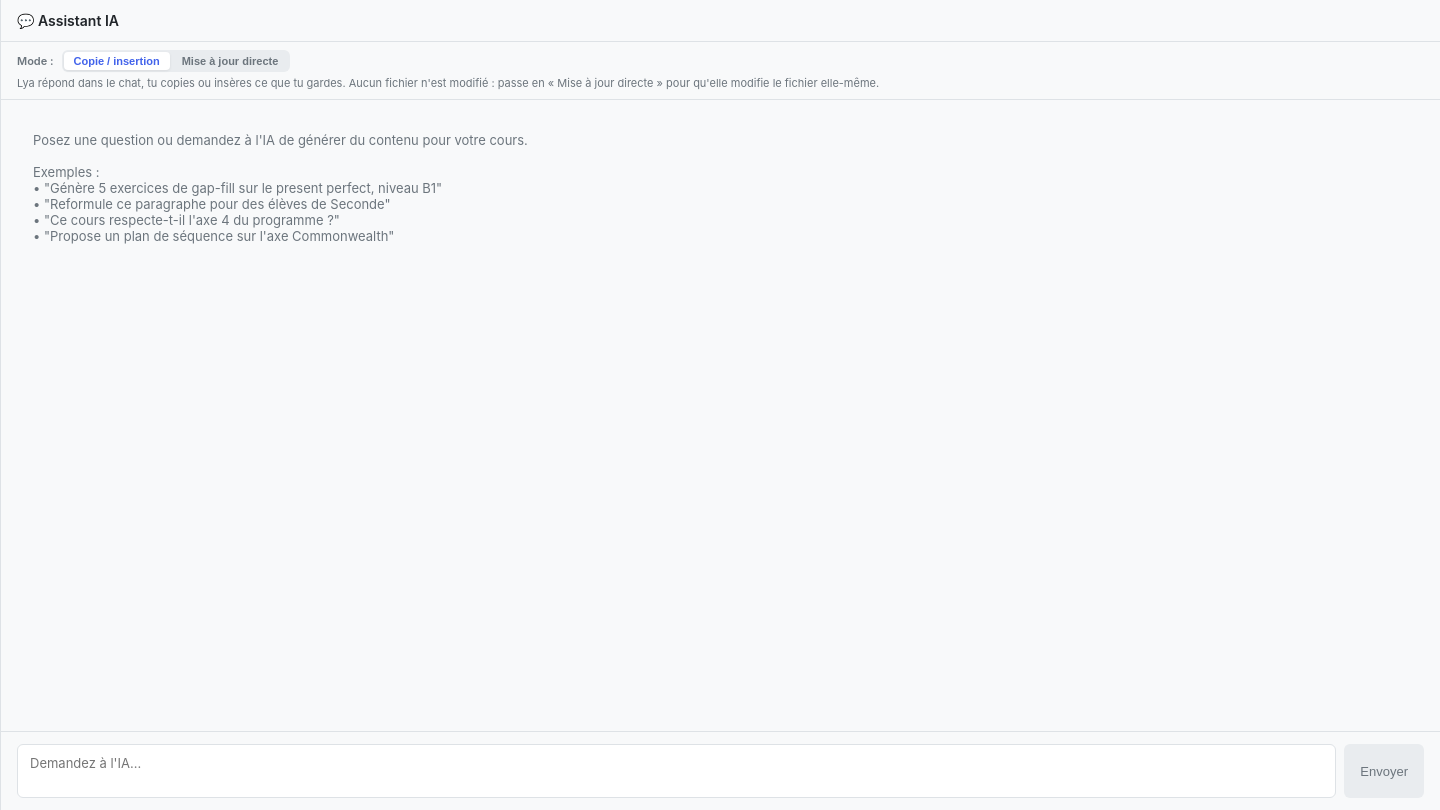
Scenario: Chat › displays user message after sending
Type "Generate exercises" into the text box with placeholder "Demandez à l'IA...". click: (677, 771)
box: [17,744,1336,798]
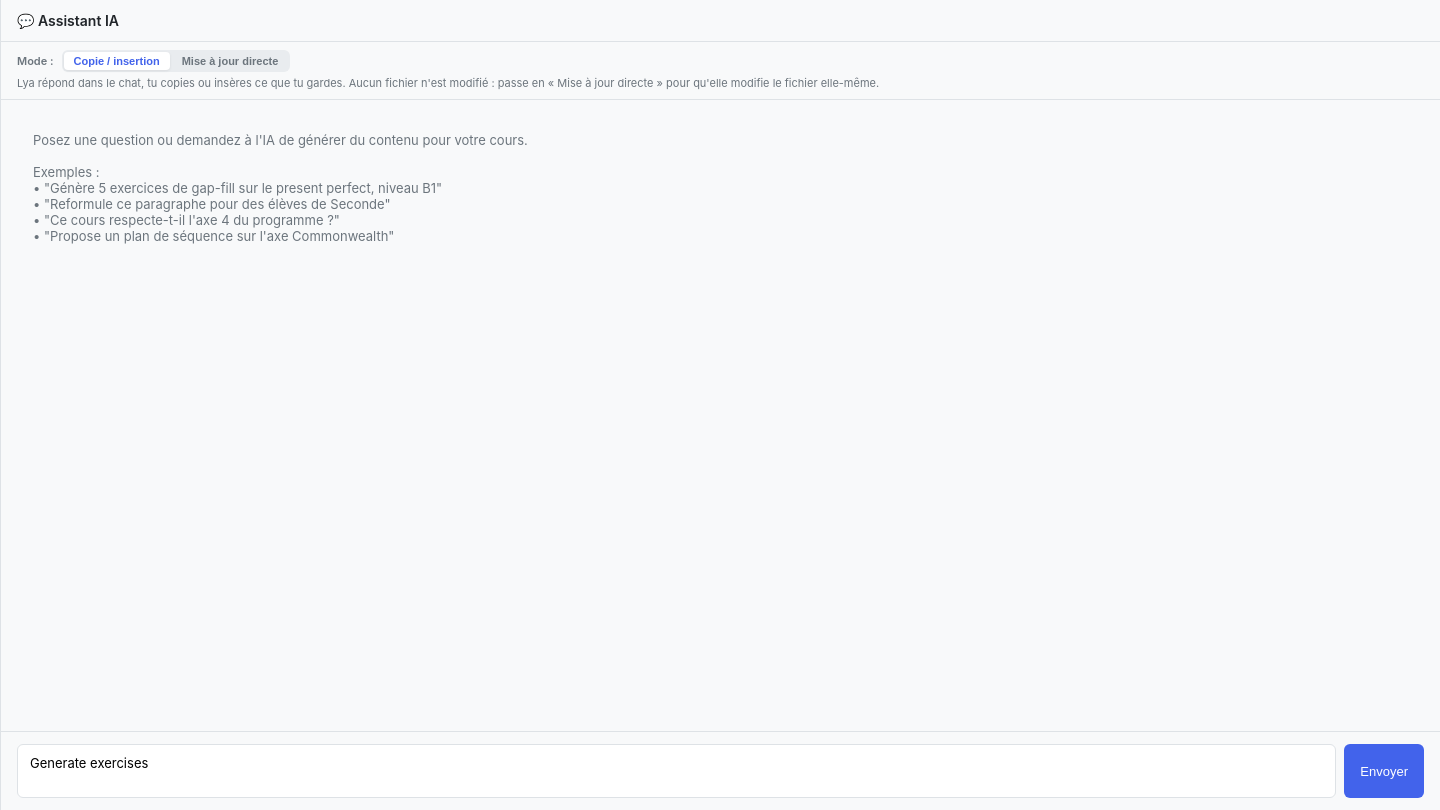
Click the button "Envoyer". click: (1384, 771)
box: [1344,744,1424,798]
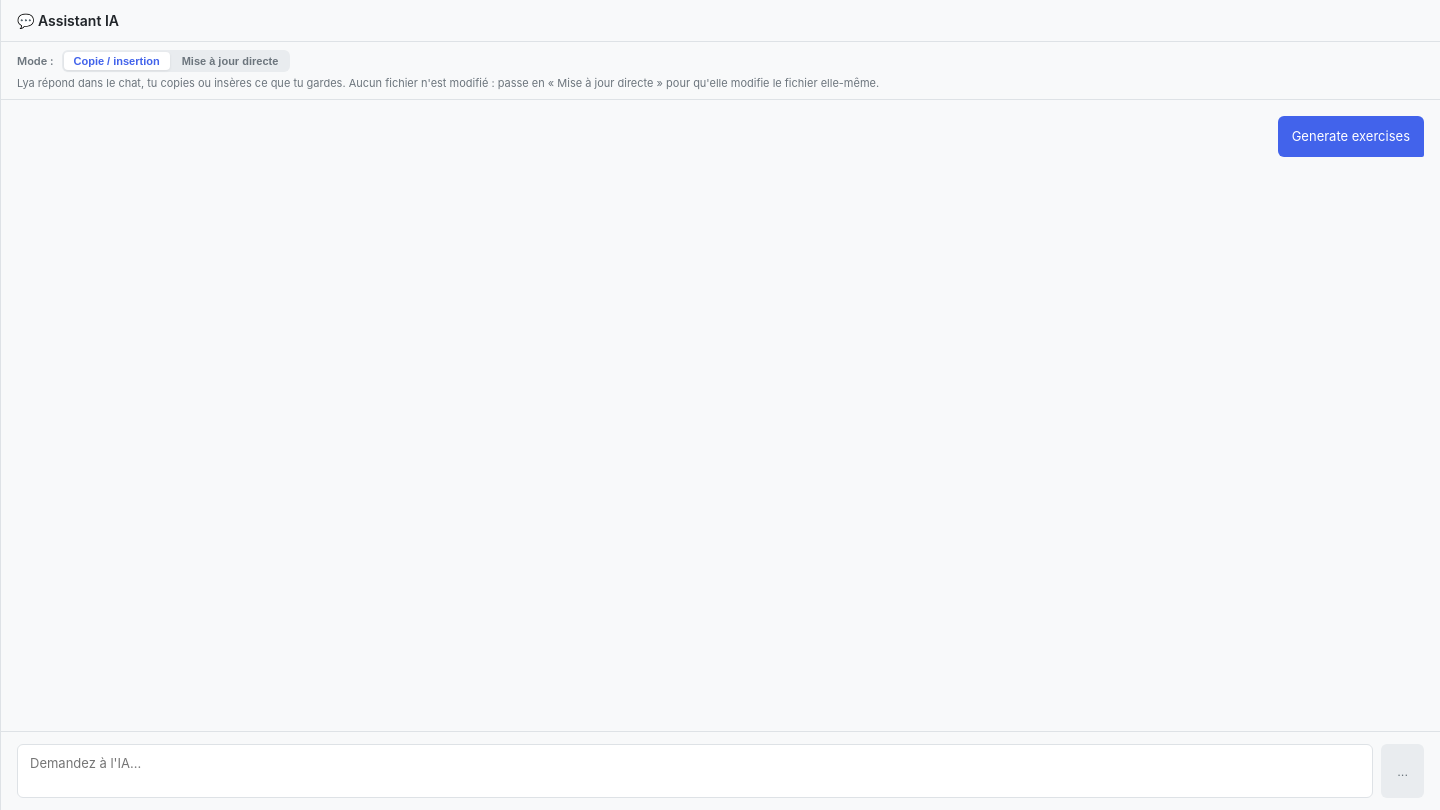
Expected: the text "Generate exercises" is shown, [1292,126,1410,147]
Expected: the text box with placeholder "Demandez à l'IA..." is empty, [17,744,1373,798]
